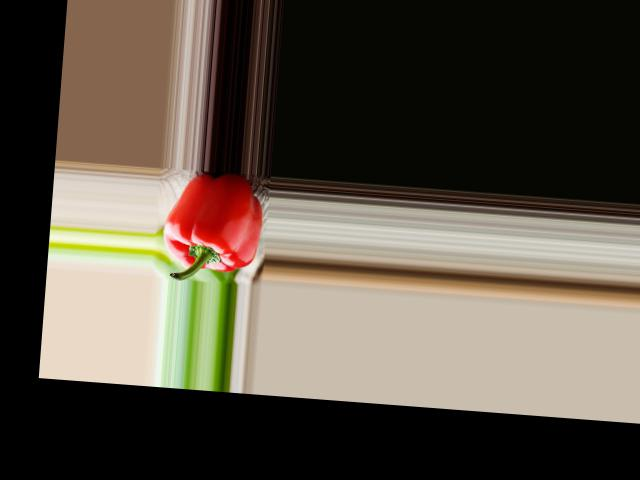bell_pepper: (157, 166, 263, 283)
